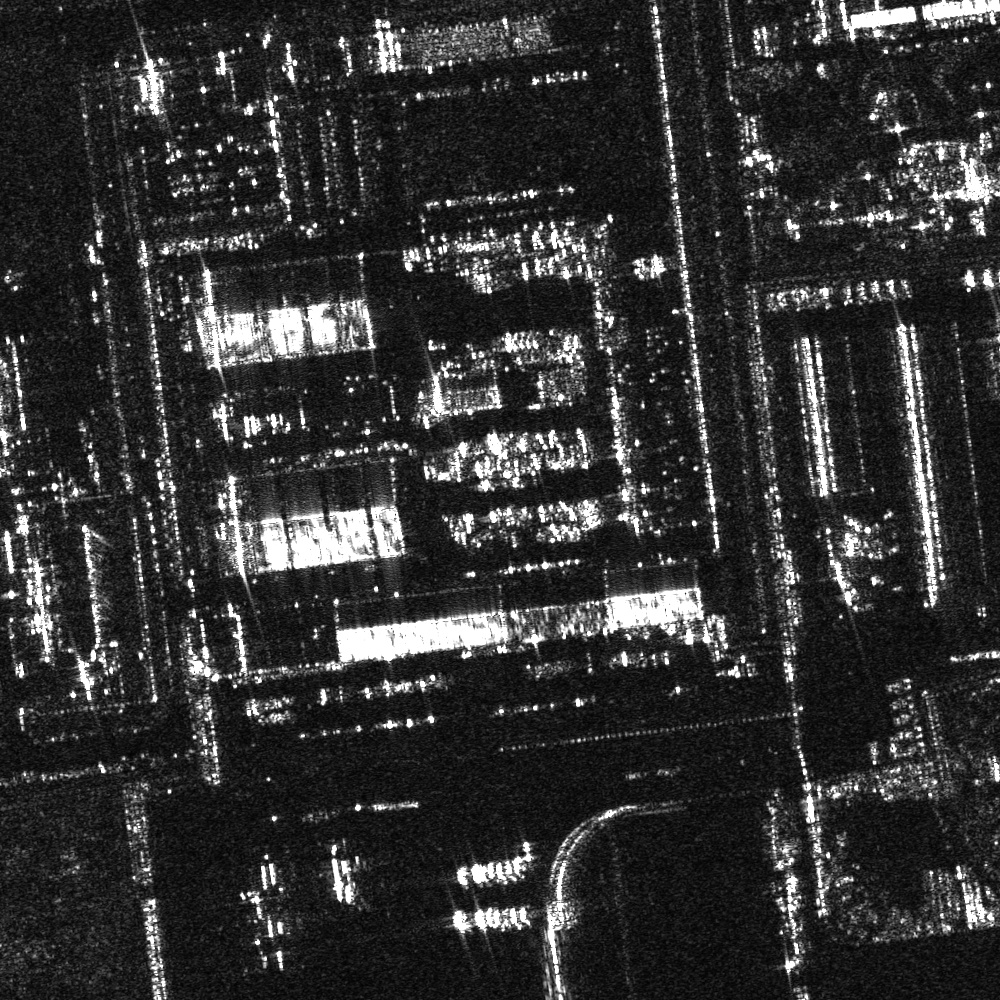Boeing787: (314, 842, 373, 905)
other: (218, 877, 295, 971)
